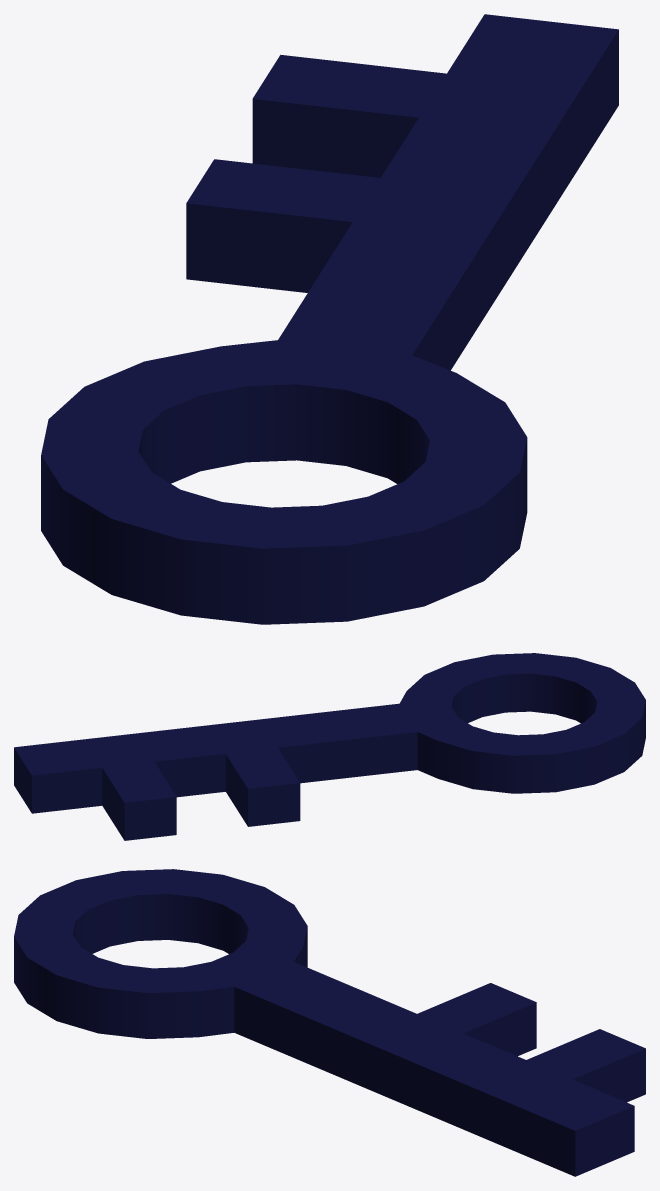
File: key.fbx
3 views of the same model, one above another, from view 1: azimuth 30°, elevation 25°; view 2: azimuth 150°, elevation 25°; view 3: azimuth 270°, elevation 25° (orthographic). The views are drawn at different scales.
Parts seen in each view (by area): view 1: Cylinder043; view 2: Cylinder043; view 3: Cylinder043.
Part boxes in pixels (x1,y1,x2,y2): Cylinder043: [41, 14, 618, 624]; Cylinder043: [14, 653, 645, 840]; Cylinder043: [14, 869, 645, 1176].
Bounding box in the file's own units: 1.87 × 0.1532 × 1.91.
